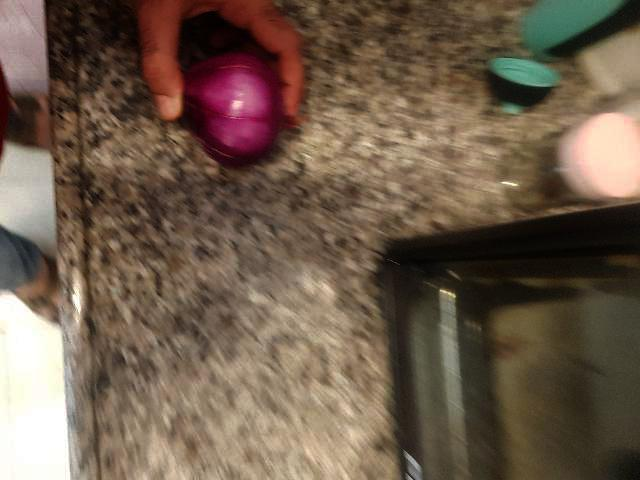onion: (209, 348, 325, 468)
